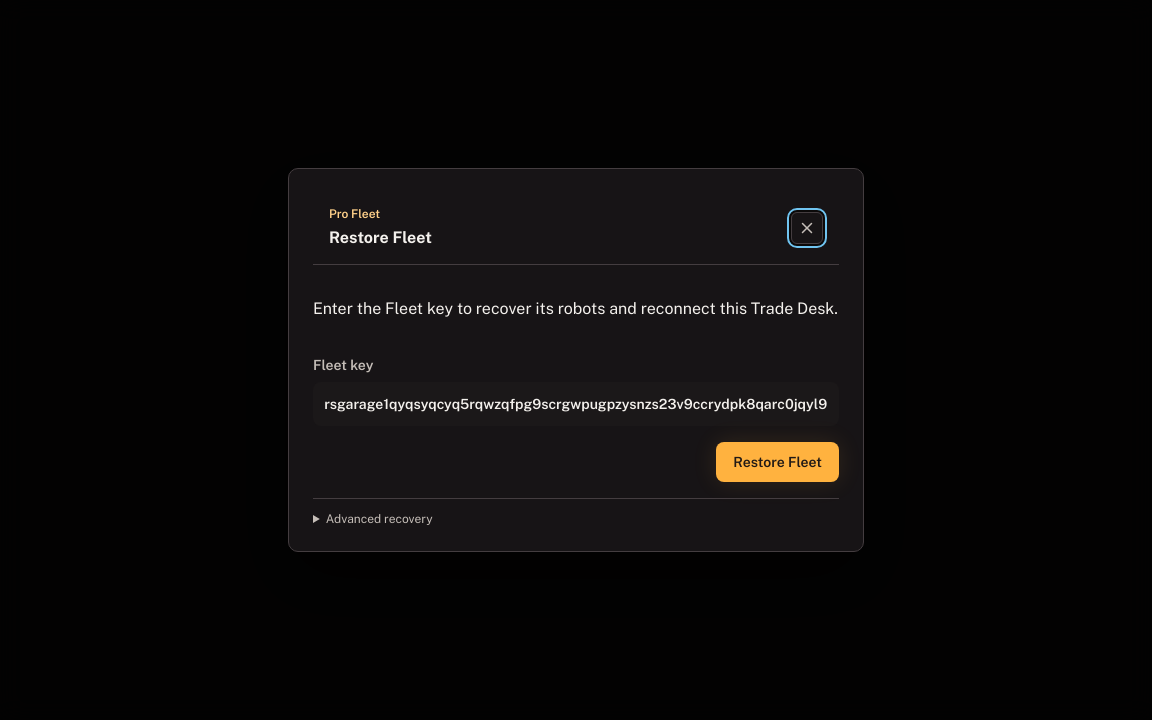
Test: GarageRecoveryDialog › passes relay coverage without mentioning background coordinator checks
This screenshot has width=1152, height=720.
Click the button "Restore Fleet" at (778, 462), box [716,442,839,482]
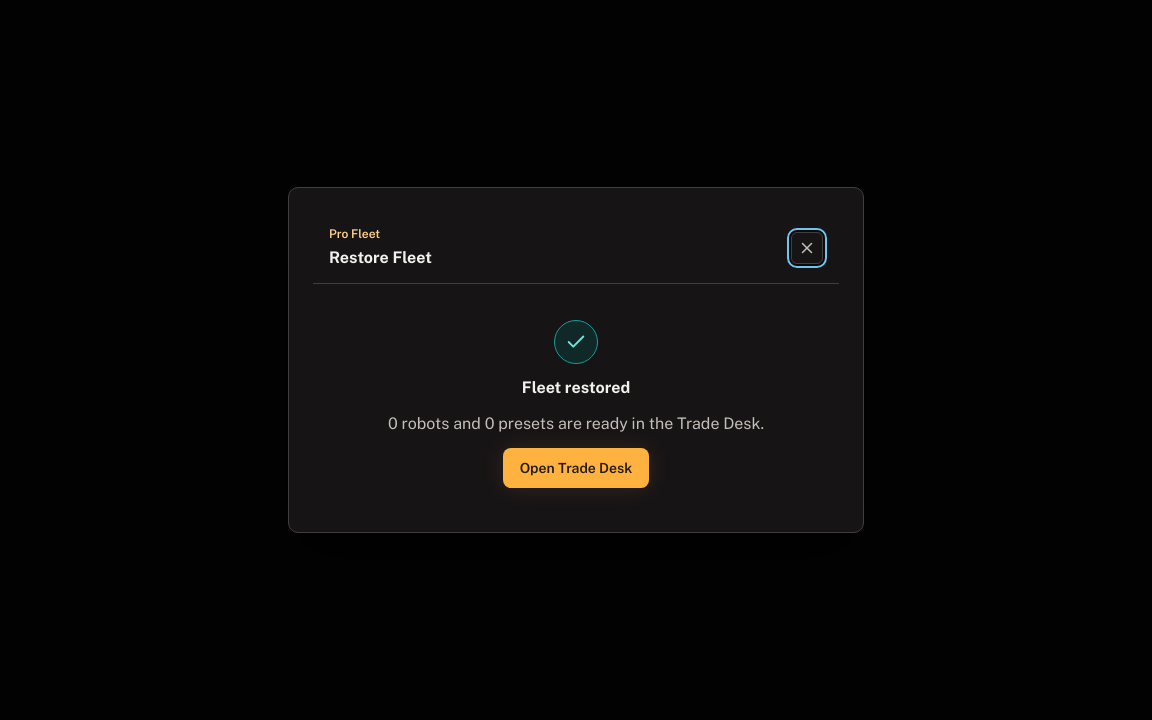
Expected: the text "Fleet restored" is shown, [522,376,630,400]
